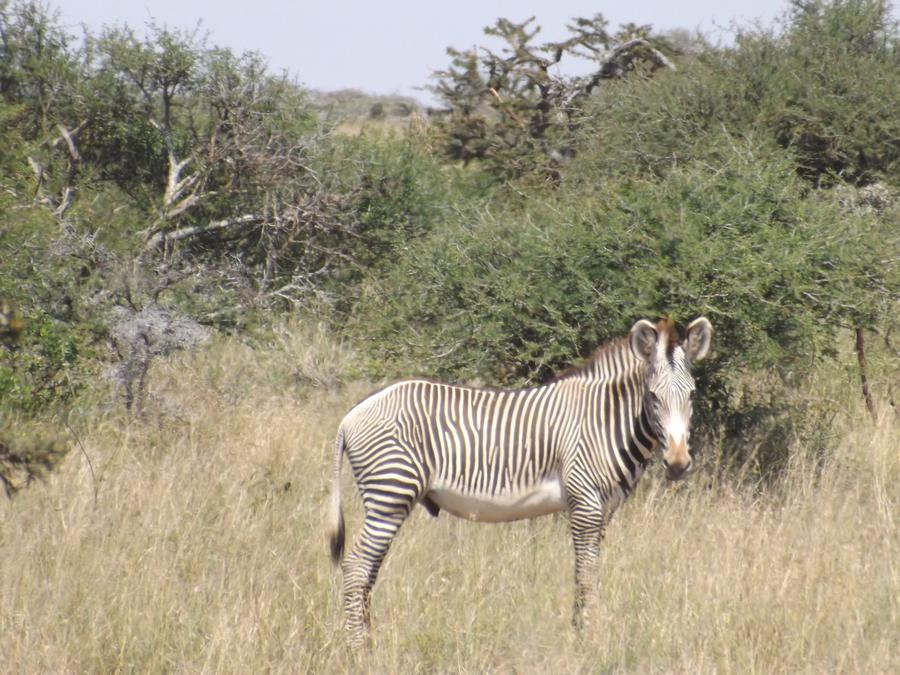zebra_grevys: (331, 363, 628, 519)
